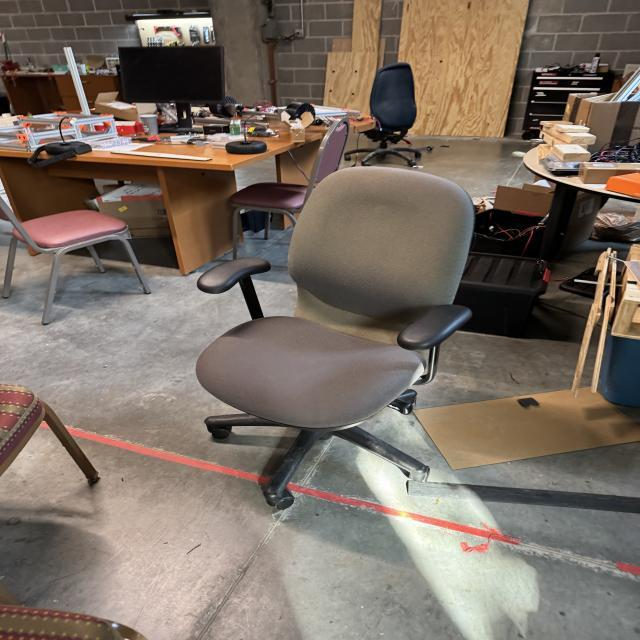chair: (185, 162, 472, 510)
